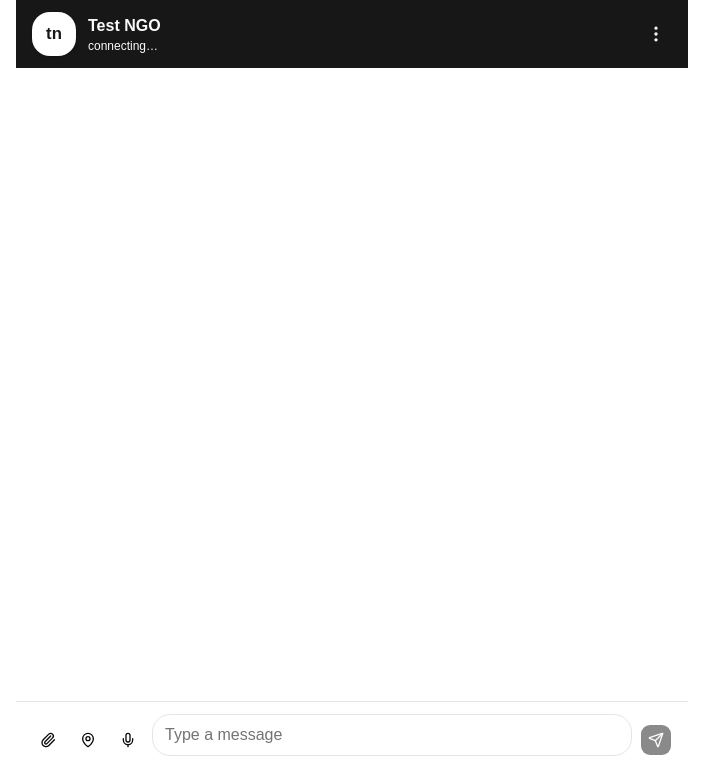
it: the chat header and menu › opens the organisation details from the name and mark in the header
This screenshot has width=705, height=768.
Expected: the text box with test id "composerInput" is shown, 152,714 -> 632,756
Click the button with test id "orgDetailsButton" at [54, 34], box 32,12 -> 628,56
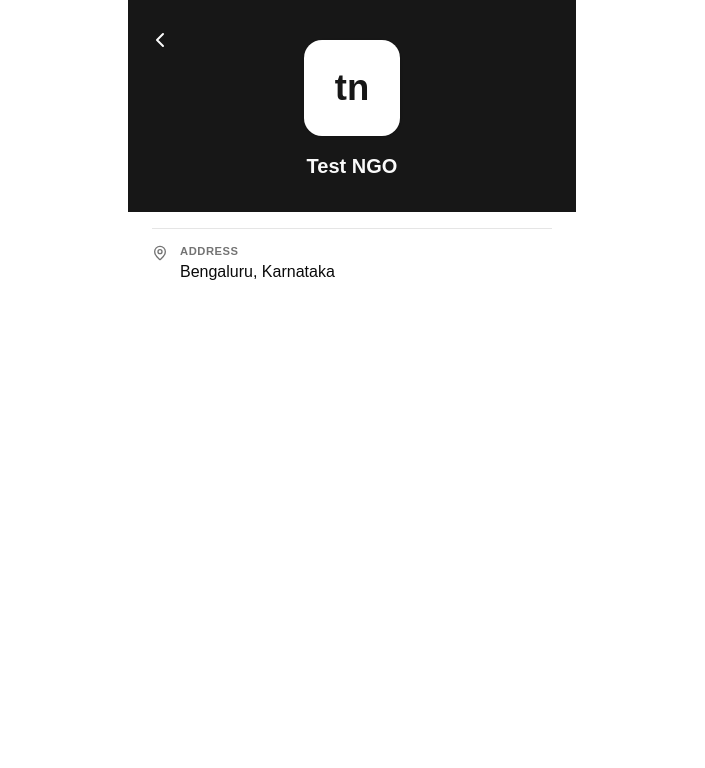
Expected: the element with test id "webChannelAbout" is shown
Expected: the element with test id "webChannelChat" is gone
